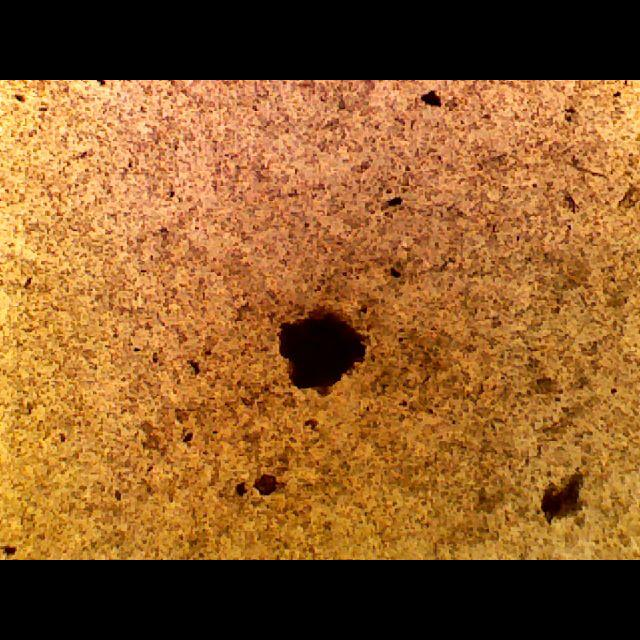Fragment: (274, 304, 374, 402), (534, 468, 590, 532), (250, 470, 280, 500)
